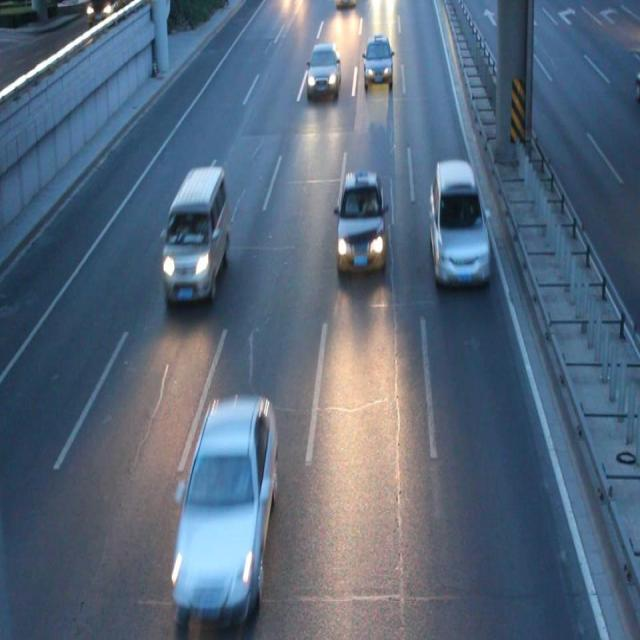car: (172, 397, 276, 597), (427, 160, 491, 286), (336, 171, 387, 273), (306, 42, 340, 95), (362, 38, 395, 88)
truck: (162, 168, 229, 305)
